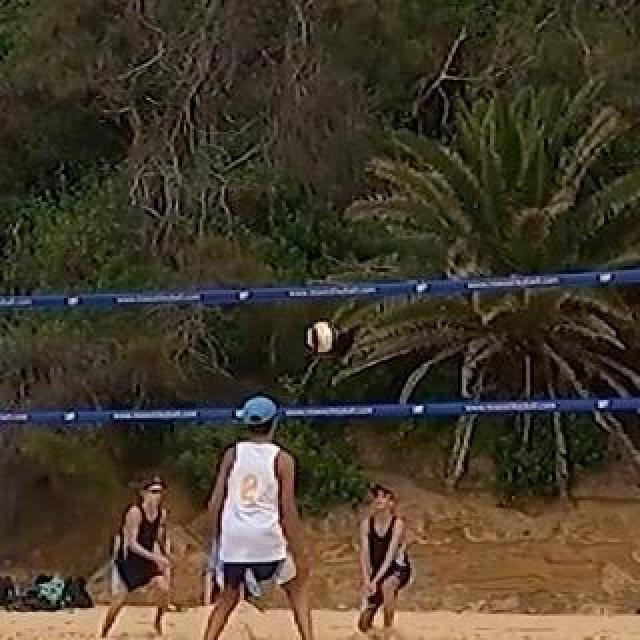volleyball: (308, 322, 338, 354)
